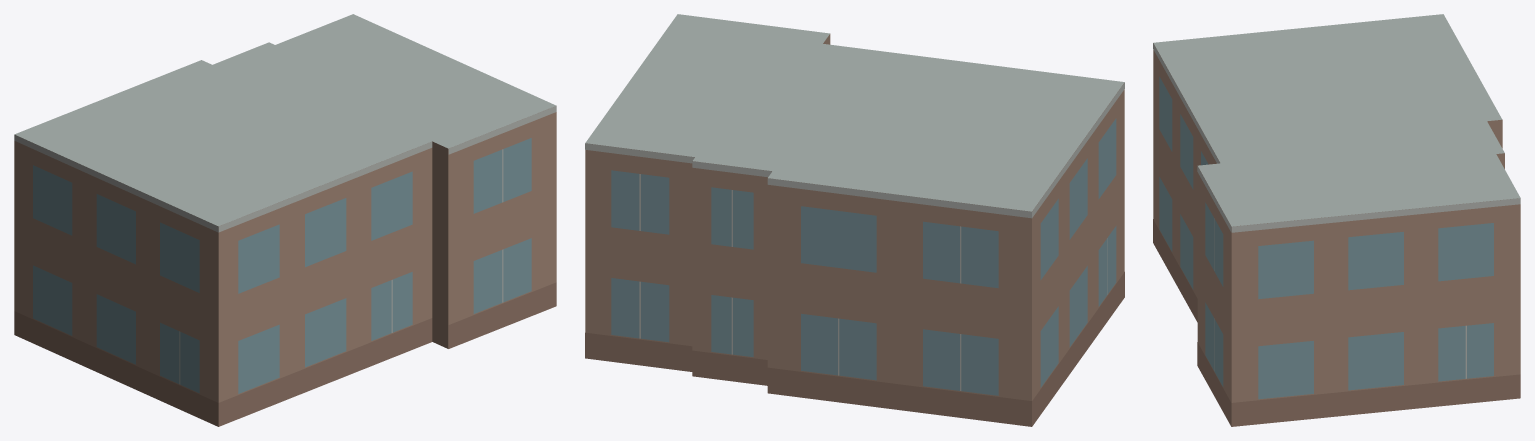
File: survey-upis-33028637.glb
The picture shows the model from 3 angles, left to right: view 1: azimuth 30°, elevation 25°; view 2: azimuth 150°, elevation 25°; view 3: azimuth 270°, elevation 25°; orthographic projection. The views are drawn at different scales.
Visible parts, largest first — view 1: survey-upis-33028637.tmp; view 2: survey-upis-33028637.tmp; view 3: survey-upis-33028637.tmp.
Part boxes in pixels (x1,y1,x2,y2): survey-upis-33028637.tmp: (14, 14, 556, 426); survey-upis-33028637.tmp: (585, 14, 1124, 426); survey-upis-33028637.tmp: (1153, 14, 1520, 426).
Bounding box in the file's own units: 18 × 7.9 × 13.15.
